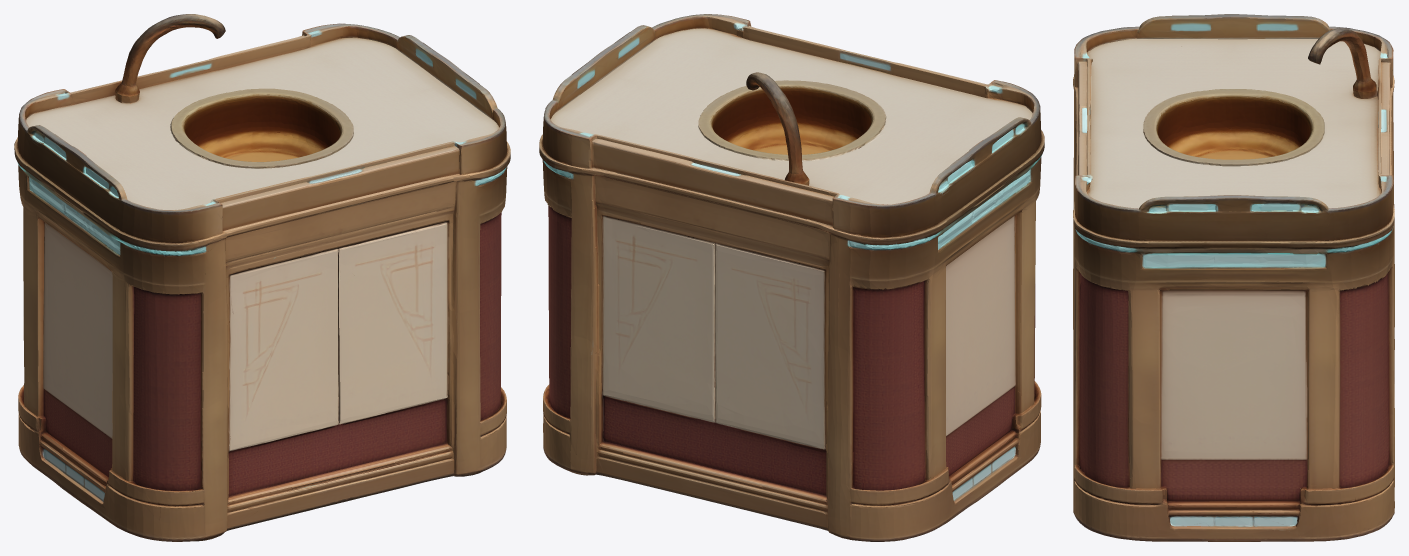
File: galley_sink.glb
3 views of the same model, side by side, from view 1: azimuth 30°, elevation 25°; view 2: azimuth 150°, elevation 25°; view 3: azimuth 270°, elevation 25° (orthographic).
Visible parts, largest first — view 1: world; view 2: world; view 3: world.
Boxes of the visible parts, x1,y1,x2,y2 form: world: (14,14,510,541); world: (539,14,1044,541); world: (1073,14,1394,541).
Size of the model in its own units: 0.9979 by 0.9976 by 0.7152.
Materials: 1 (1 with a texture image).
